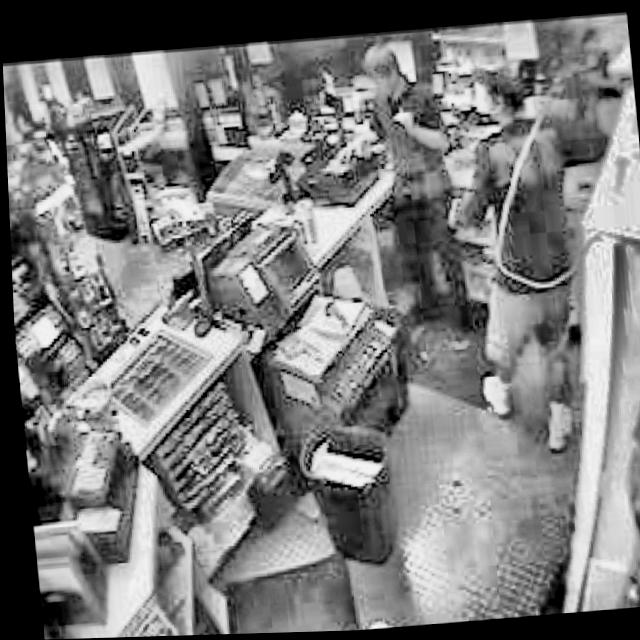robbery: (318, 39, 457, 169)
